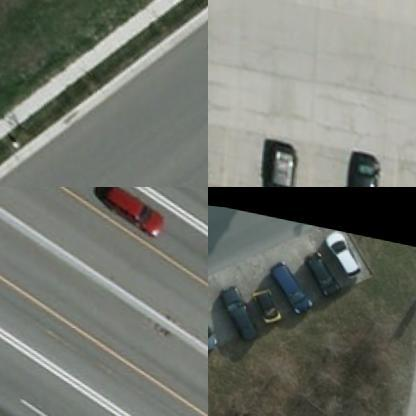car: (97, 187, 163, 231), (210, 278, 258, 335), (263, 250, 309, 307), (295, 238, 341, 295), (238, 270, 284, 326), (319, 220, 365, 275), (337, 137, 380, 186), (260, 134, 295, 186)
